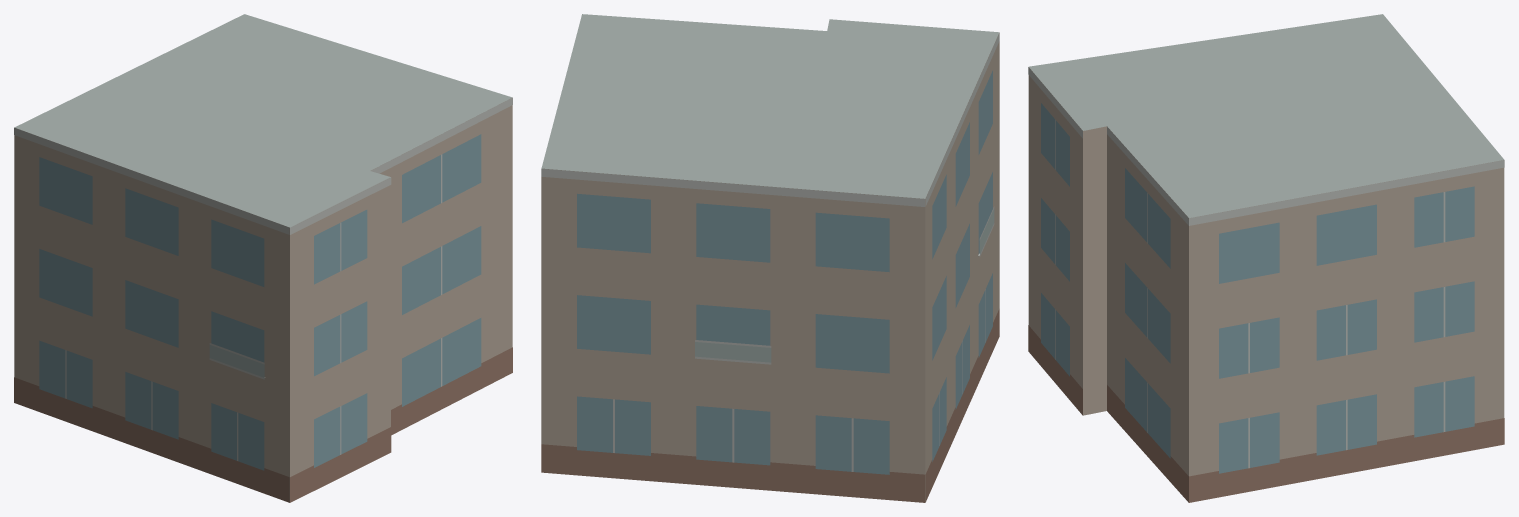
The model's file is survey-upis-32829718.glb.
3 renders of one model, left to right at view 1: azimuth 30°, elevation 25°; view 2: azimuth 150°, elevation 25°; view 3: azimuth 270°, elevation 25°, orthographic. The views are drawn at different scales.
Visible parts, largest first — view 1: survey-upis-32829718.tmp; view 2: survey-upis-32829718.tmp; view 3: survey-upis-32829718.tmp.
Boxes of the visible parts, x1,y1,x2,y2 form: survey-upis-32829718.tmp: [14, 14, 512, 502]; survey-upis-32829718.tmp: [541, 14, 999, 502]; survey-upis-32829718.tmp: [1028, 14, 1504, 502].
Bounding box in the file's own units: 13.76 × 8.94 × 13.56.
